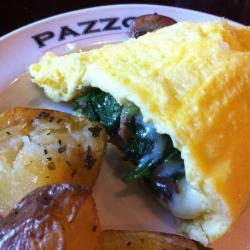omelette: (47, 28, 250, 202)
